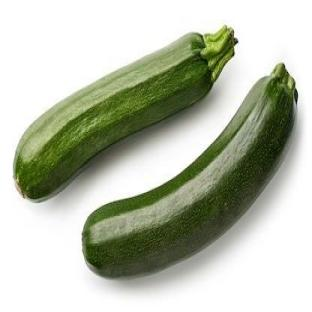Zucchini: (83, 64, 297, 277), (14, 27, 235, 201)
